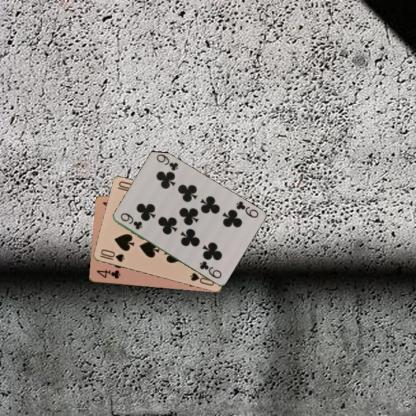10s: (97, 247, 125, 264)
4c: (94, 267, 121, 280)
9c: (118, 210, 144, 231), (233, 198, 259, 219)
